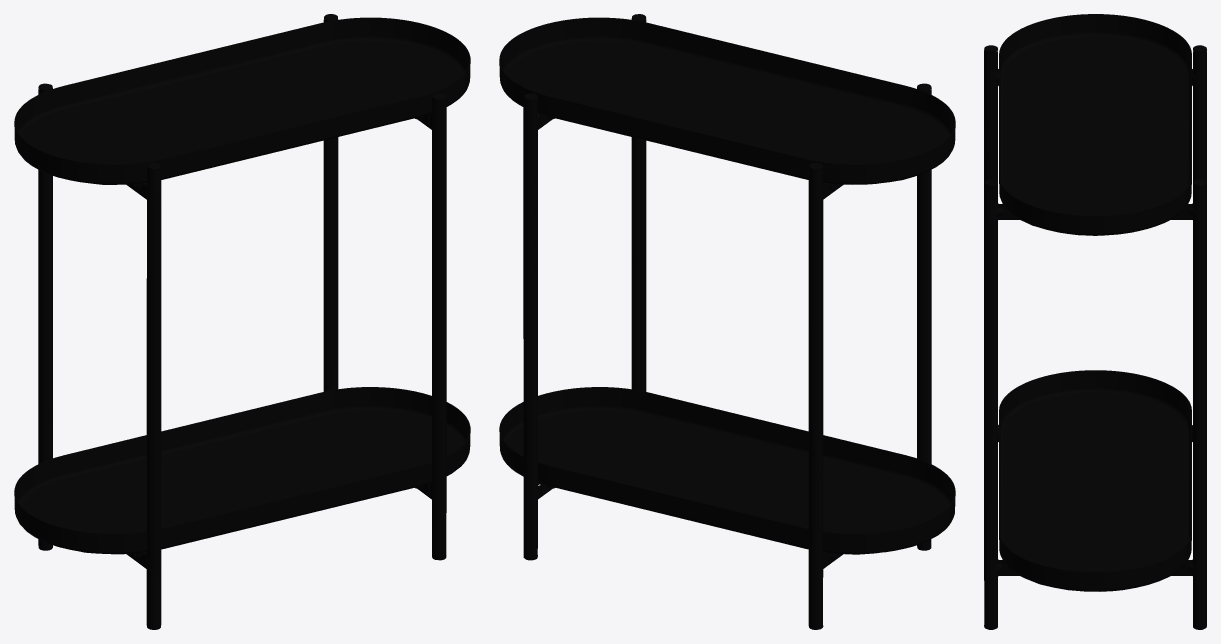
Rendered from olivblad_stojak_na_doniczke_10486647.glb.
3 views of the same model, side by side, from view 1: azimuth 30°, elevation 25°; view 2: azimuth 150°, elevation 25°; view 3: azimuth 270°, elevation 25° (orthographic). The views are drawn at different scales.
Visible parts, largest first — view 1: olivblad_stojak_na_doniczke_10486647; view 2: olivblad_stojak_na_doniczke_10486647; view 3: olivblad_stojak_na_doniczke_10486647.
Part boxes in pixels (x1,y1,x2,y2): olivblad_stojak_na_doniczke_10486647: (14,14,470,629); olivblad_stojak_na_doniczke_10486647: (499,14,955,629); olivblad_stojak_na_doniczke_10486647: (984,14,1206,629).
Bounding box in the file's own units: 0.545 × 0.56 × 0.2541.
1 material, 1 textured.
